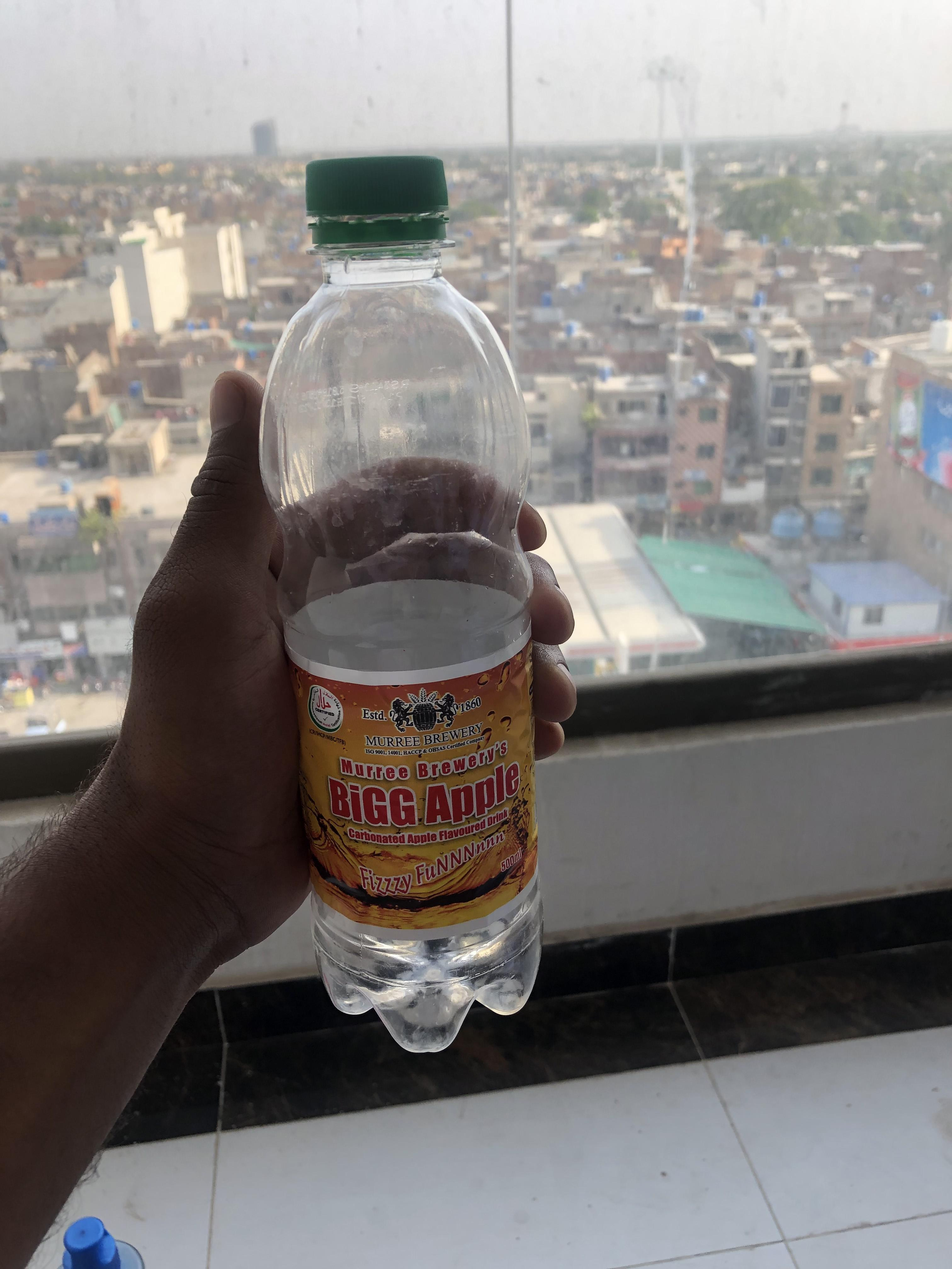bottle-plastic: (255, 150, 544, 1053)
